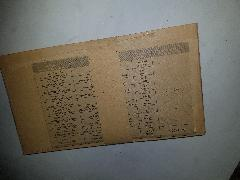paper: (0, 23, 206, 155)
